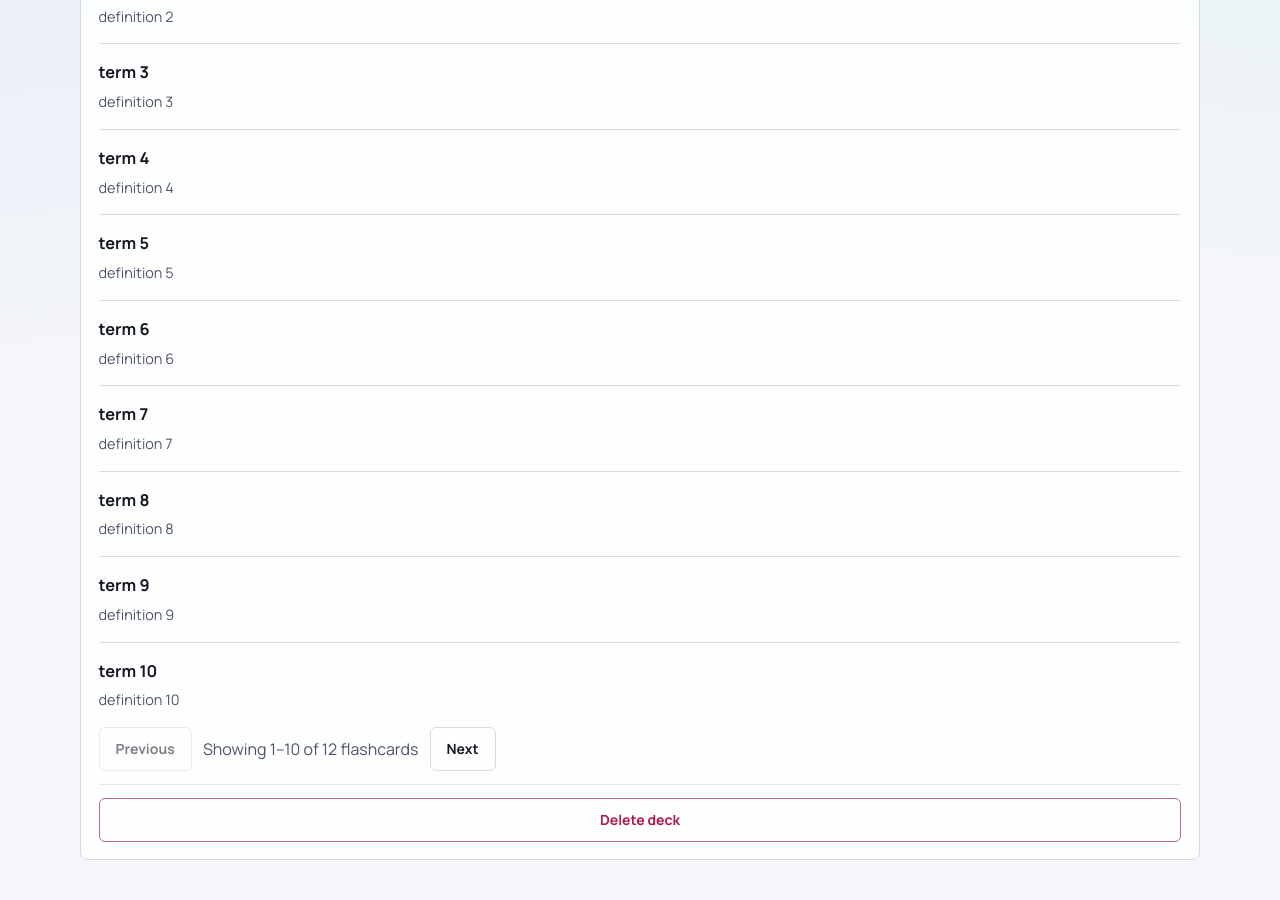
Test: deck routes › renders flashcard preview list, image badge, pagination, and view all link
This screenshot has width=1280, height=900.
(page scrolled)
Expected: the text "Showing 1–10 of 12 flashcards" is shown, [203,737,418,761]
Expected: the button "Previous" is disabled, [99,727,192,771]
Click the button "Next" at (463, 749), box [430,727,496,771]
(page scrolled)
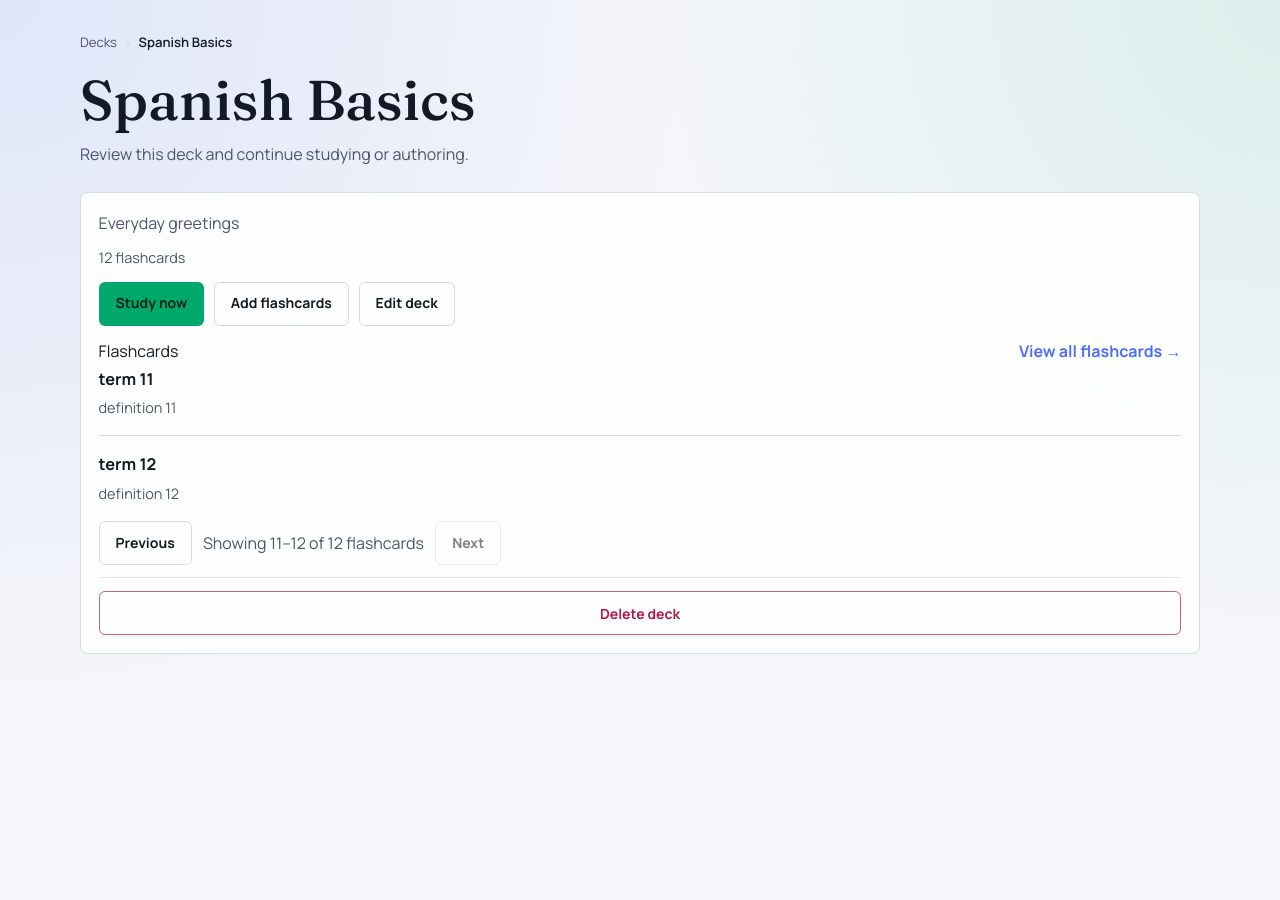
Now the text "Showing 11–12 of 12 flashcards" is shown, box [203,530,424,554]
Now the button "Previous" is enabled, box [99,520,192,564]
Now the button "Next" is disabled, box [435,520,501,564]
